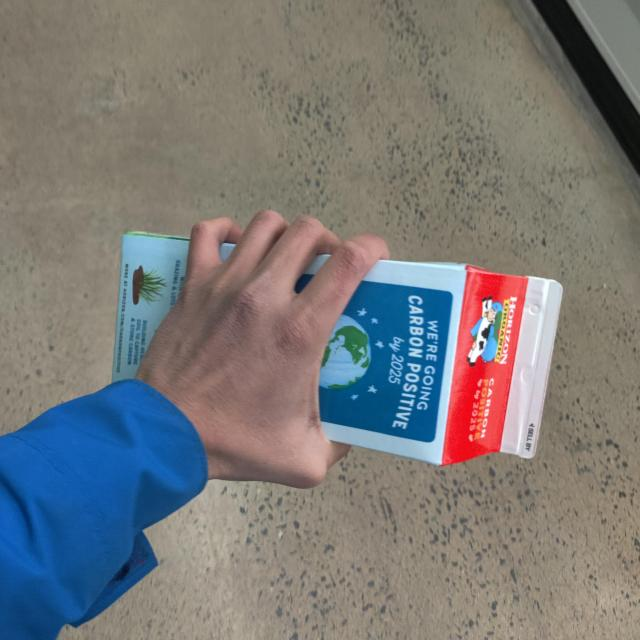Milk: (118, 228, 566, 463)
